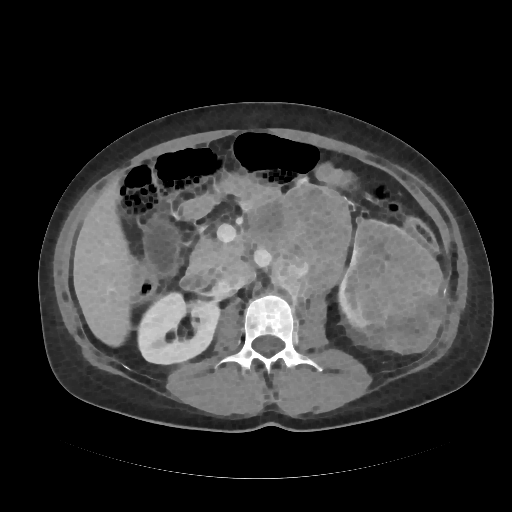Lesion: (342, 216, 451, 329)
